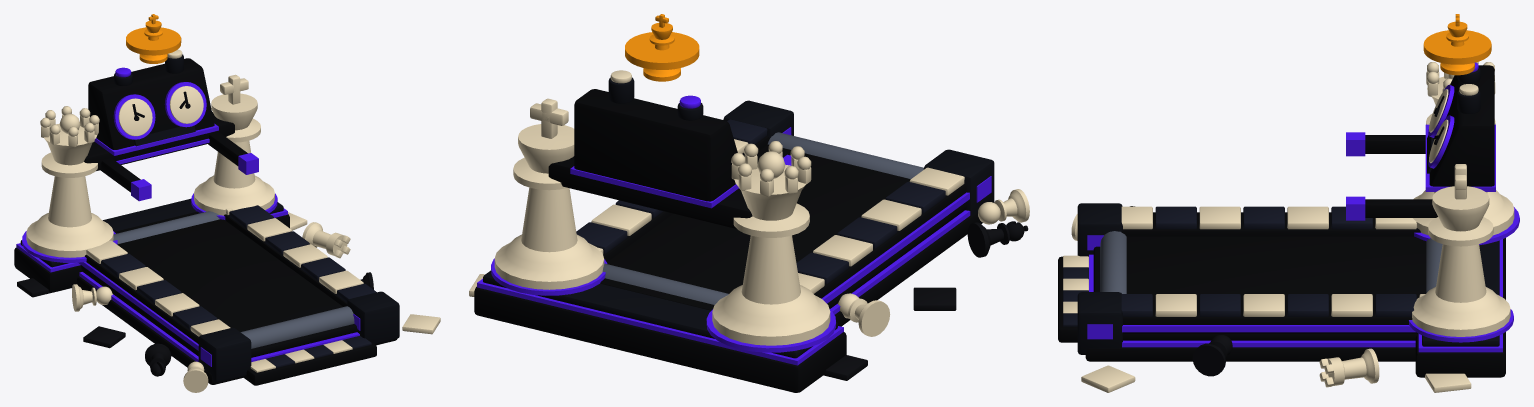
File: GrandmasterGlide.obj
The picture shows the model from 3 angles, left to right: view 1: azimuth 30°, elevation 25°; view 2: azimuth 150°, elevation 25°; view 3: azimuth 270°, elevation 25°; orthographic projection. The views are drawn at different scales.
Visible parts, largest first — view 1: GrandmasterGlide_Chess, GrandmasterGlide_Body, GrandmasterGlide_Belt, GrandmasterGlide_Neon, GrandmasterGlide_Panel, GrandmasterGlide_Square, GrandmasterGlide_Steel, GrandmasterGlide_Spill, GrandmasterGlide_Prop; view 2: GrandmasterGlide_Chess, GrandmasterGlide_Body, GrandmasterGlide_Belt, GrandmasterGlide_Neon, GrandmasterGlide_Panel, GrandmasterGlide_Square, GrandmasterGlide_Steel, GrandmasterGlide_Prop, GrandmasterGlide_Spill; view 3: GrandmasterGlide_Chess, GrandmasterGlide_Body, GrandmasterGlide_Belt, GrandmasterGlide_Neon, GrandmasterGlide_Square, GrandmasterGlide_Panel, GrandmasterGlide_Prop, GrandmasterGlide_Steel, GrandmasterGlide_Spill.
Part boxes in pixels (bbox=[...]): GrandmasterGlide_Chess: bbox=[26, 49, 440, 392]; GrandmasterGlide_Body: bbox=[14, 58, 396, 385]; GrandmasterGlide_Belt: bbox=[114, 211, 342, 331]; GrandmasterGlide_Neon: bbox=[16, 67, 360, 366]; GrandmasterGlide_Panel: bbox=[20, 54, 399, 382]; GrandmasterGlide_Square: bbox=[101, 205, 376, 367]; GrandmasterGlide_Steel: bbox=[113, 211, 354, 348]; GrandmasterGlide_Spill: bbox=[17, 272, 373, 376]; GrandmasterGlide_Prop: bbox=[126, 14, 181, 63]; GrandmasterGlide_Chess: bbox=[469, 70, 1029, 345]; GrandmasterGlide_Body: bbox=[474, 89, 982, 392]; GrandmasterGlide_Belt: bbox=[600, 144, 910, 310]; GrandmasterGlide_Neon: bbox=[477, 95, 991, 365]; GrandmasterGlide_Panel: bbox=[483, 77, 994, 358]; GrandmasterGlide_Square: bbox=[576, 119, 945, 284]; GrandmasterGlide_Steel: bbox=[602, 132, 923, 304]; GrandmasterGlide_Prop: bbox=[625, 14, 699, 81]; GrandmasterGlide_Spill: bbox=[823, 221, 1028, 380]; GrandmasterGlide_Chess: bbox=[1063, 62, 1514, 392]; GrandmasterGlide_Body: bbox=[1058, 65, 1505, 377]; GrandmasterGlide_Belt: bbox=[1126, 236, 1426, 299]; GrandmasterGlide_Neon: bbox=[1087, 62, 1519, 352]; GrandmasterGlide_Square: bbox=[1063, 206, 1416, 326]; GrandmasterGlide_Panel: bbox=[1077, 67, 1499, 354]; GrandmasterGlide_Prop: bbox=[1423, 14, 1491, 75]; GrandmasterGlide_Steel: bbox=[1100, 231, 1442, 293]; GrandmasterGlide_Spill: bbox=[1130, 206, 1232, 376].
Size of the model in its own units: 12.64 by 10 by 14.27.
